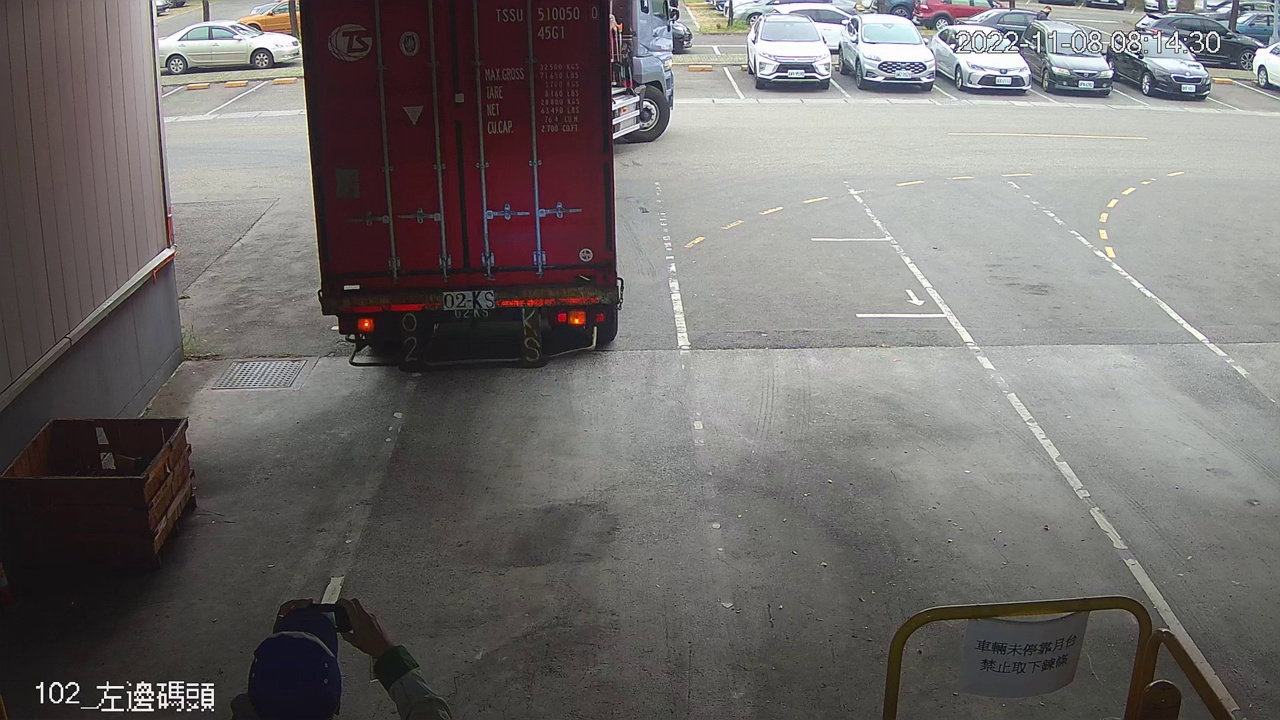container: (490, 2, 601, 43)
